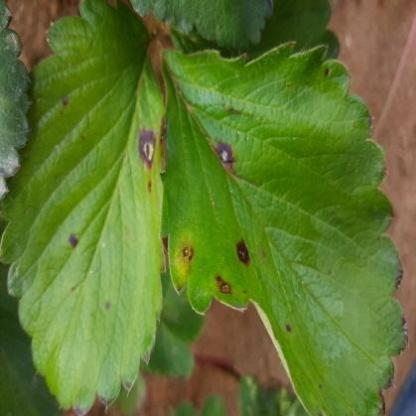Strawberry_Leaf_Spot: (158, 40, 412, 415), (0, 0, 167, 416)
